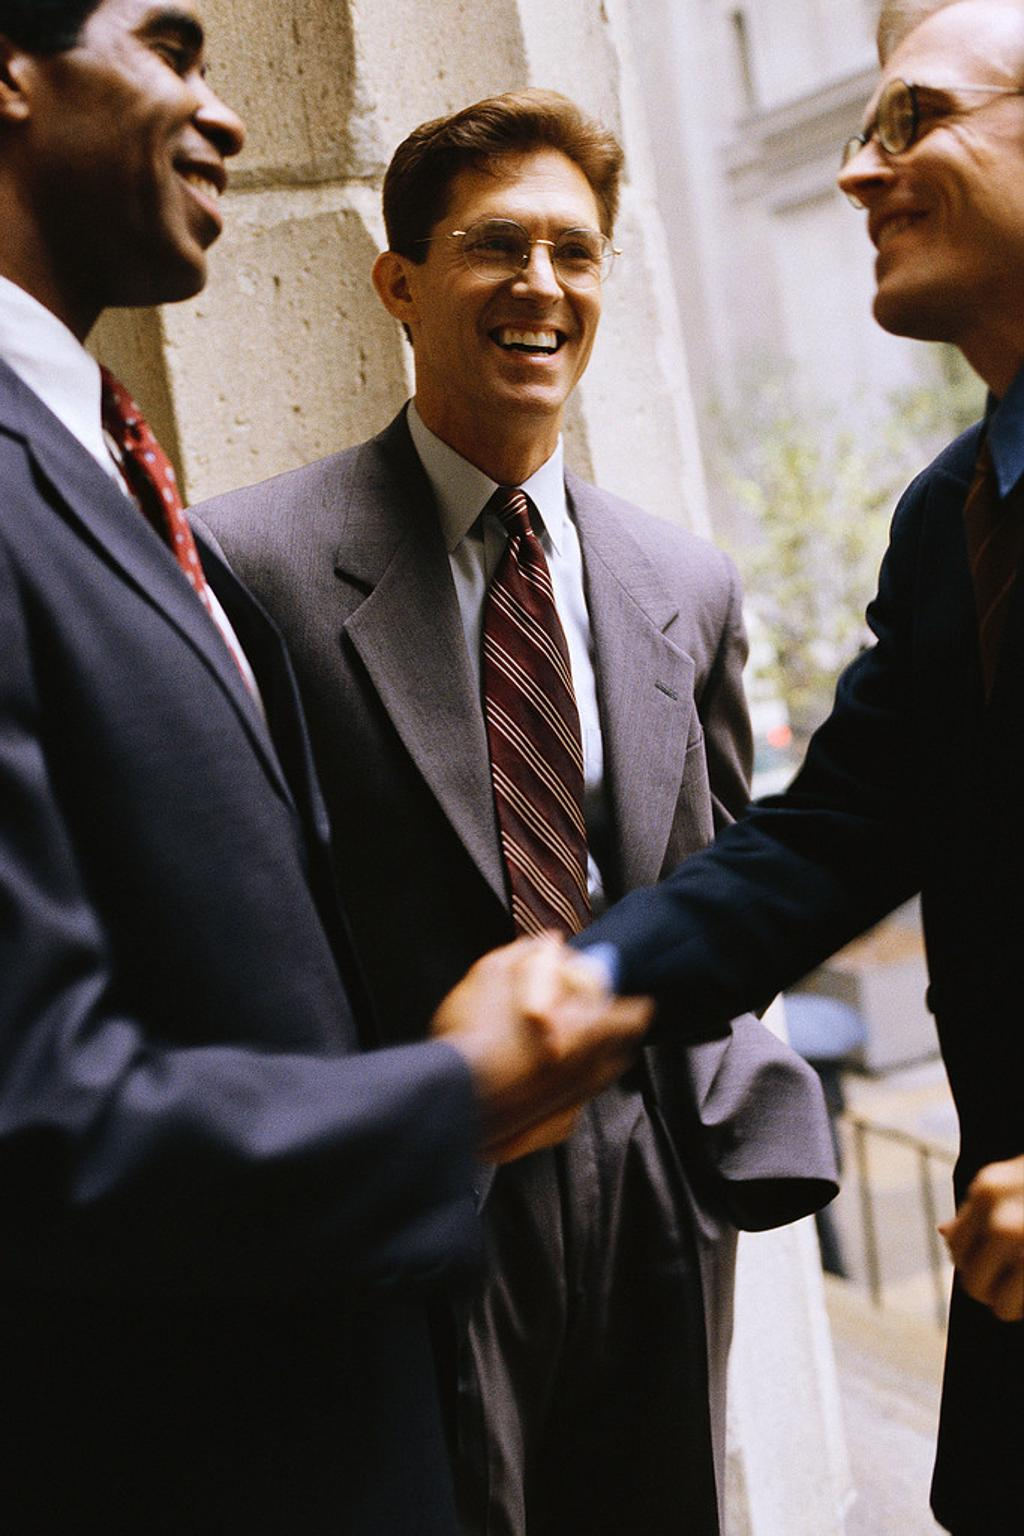face: (39, 3, 246, 296), (841, 15, 1018, 317), (416, 153, 602, 416)
